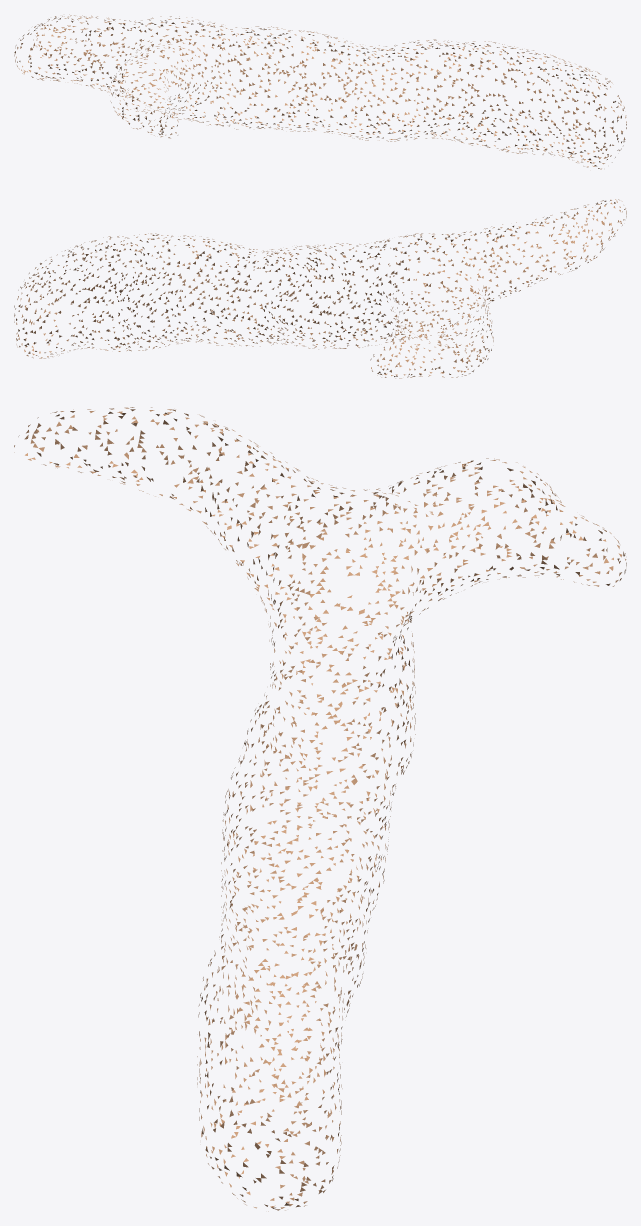
Rendered from morph_005.glb.
3 views of the same model, one above another, from view 1: azimuth 30°, elevation 25°; view 2: azimuth 150°, elevation 25°; view 3: azimuth 270°, elevation 25° (orthographic). The views are drawn at different scales.
Size of the model in its own units: 128 by 53.46 by 75.13.
